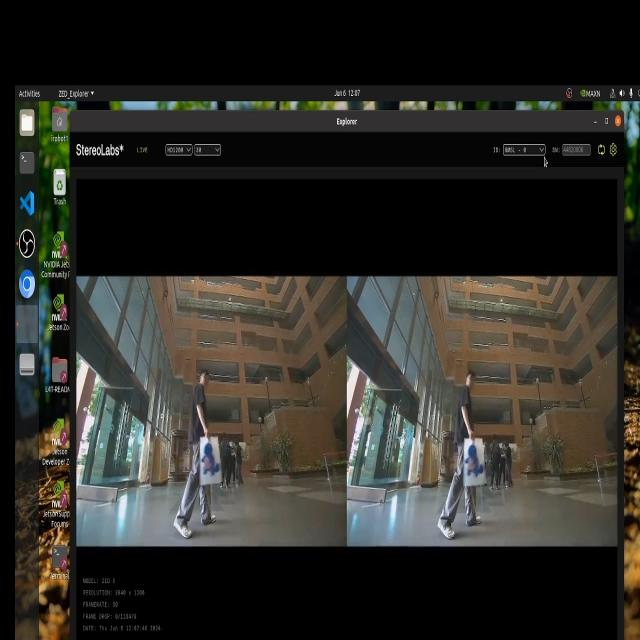blue: (466, 437, 491, 481), (196, 442, 223, 479)
